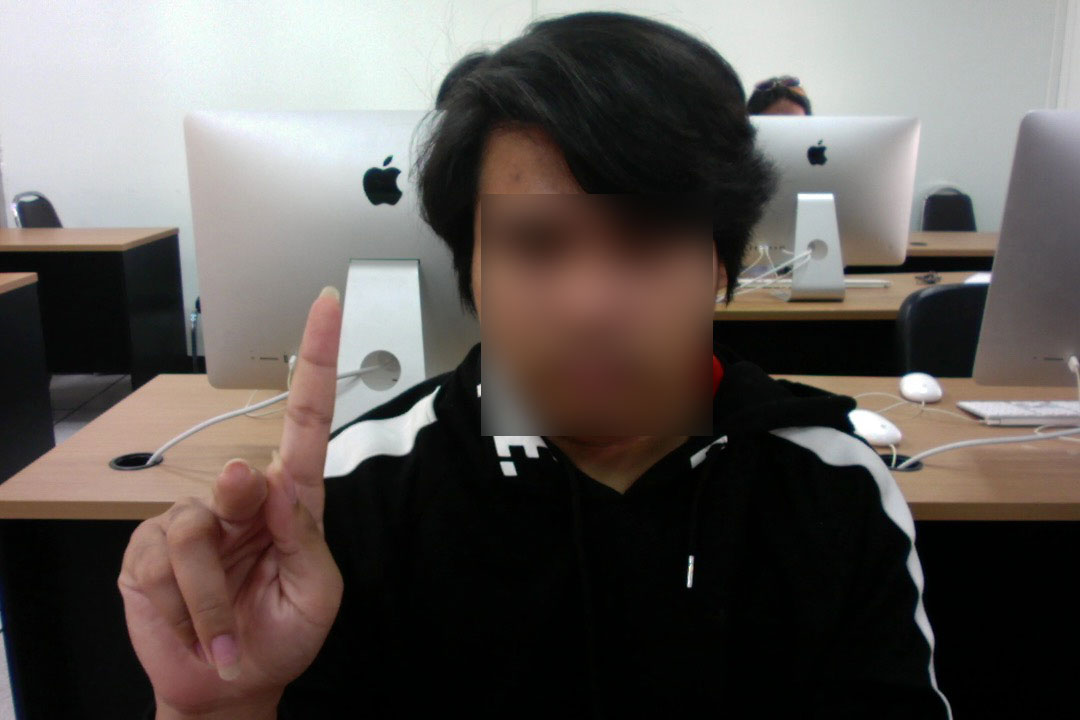dor: (116, 278, 358, 716)
